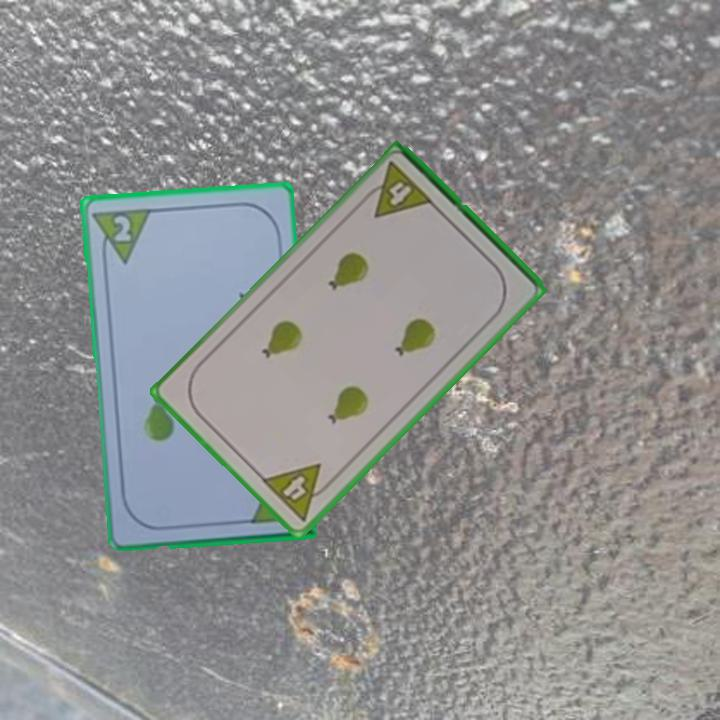2p: (109, 212, 134, 245)
4p: (258, 460, 338, 524), (358, 158, 436, 221)
